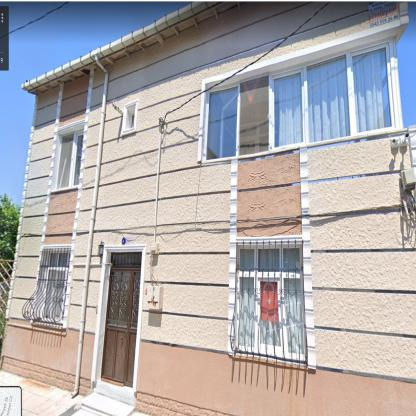door: (100, 253, 141, 386)
window: (203, 43, 392, 160), (235, 243, 308, 360), (39, 252, 69, 322), (56, 129, 82, 190)
